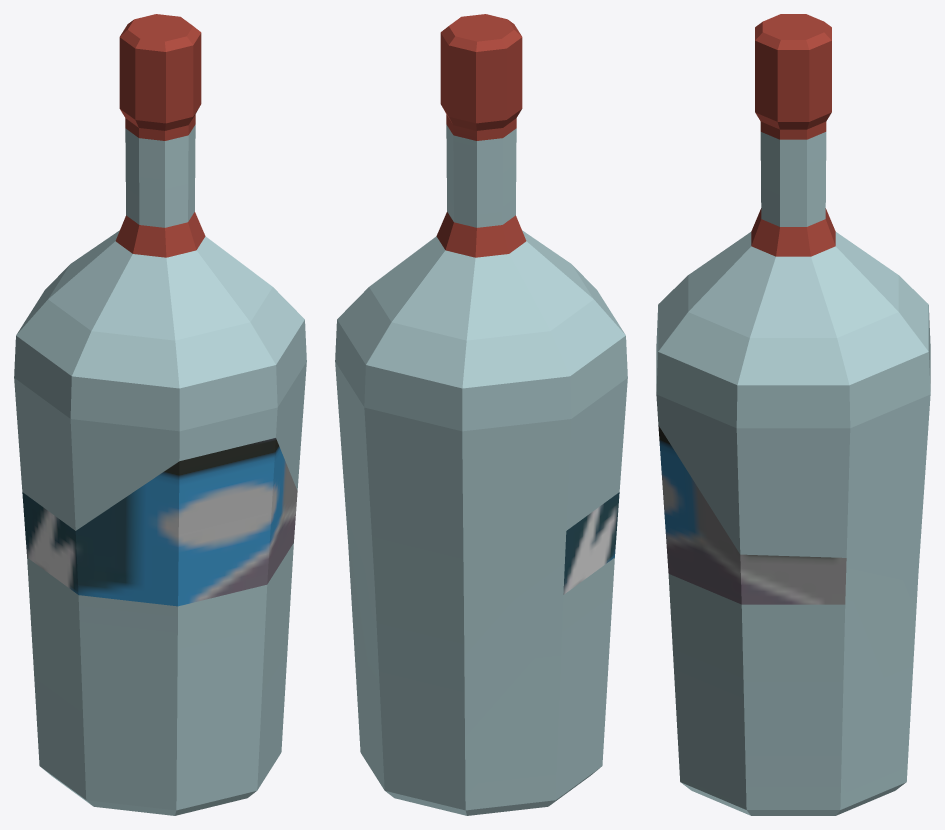
File: SM_Prop_Bottle_Large_01_GLASS.obj
3 renders of one model, left to right at view 1: azimuth 30°, elevation 25°; view 2: azimuth 150°, elevation 25°; view 3: azimuth 270°, elevation 25°, orthographic.
Parts seen in each view (by area): view 1: SM_Prop_Bottle_Large_01_GLASS_1, SM_Prop_Bottle_Large_01_GLASS_0; view 2: SM_Prop_Bottle_Large_01_GLASS_1, SM_Prop_Bottle_Large_01_GLASS_0; view 3: SM_Prop_Bottle_Large_01_GLASS_1, SM_Prop_Bottle_Large_01_GLASS_0.
Boxes of the visible parts, bbox=[...] form: SM_Prop_Bottle_Large_01_GLASS_1: bbox=[14, 124, 306, 815]; SM_Prop_Bottle_Large_01_GLASS_0: bbox=[22, 14, 297, 606]; SM_Prop_Bottle_Large_01_GLASS_1: bbox=[335, 124, 627, 815]; SM_Prop_Bottle_Large_01_GLASS_0: bbox=[436, 14, 619, 594]; SM_Prop_Bottle_Large_01_GLASS_1: bbox=[656, 132, 930, 815]; SM_Prop_Bottle_Large_01_GLASS_0: bbox=[658, 14, 846, 604].
Bounding box in the file's own units: 0.1554 × 0.4664 × 0.1554.
2 materials, 1 textured.
